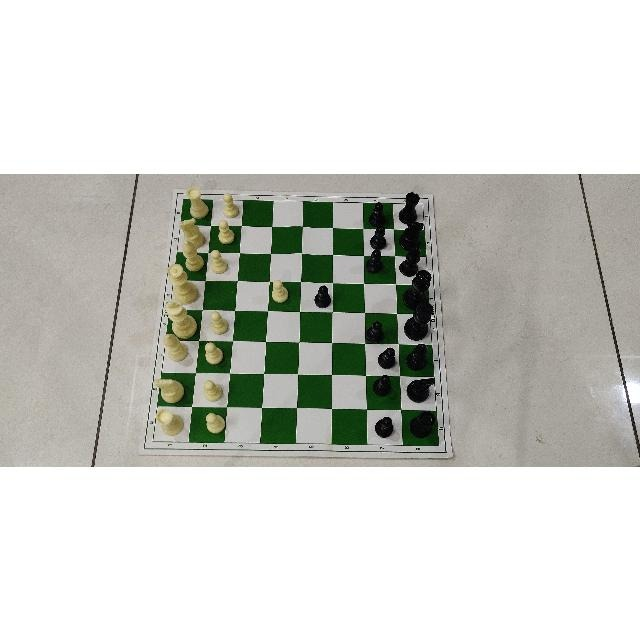black-bishop: (397, 245, 421, 276), (406, 342, 430, 370)
black-king: (403, 300, 433, 339)
black-knight: (406, 376, 435, 403), (401, 221, 424, 247)
black-pawn: (372, 373, 392, 397), (369, 201, 387, 227), (365, 248, 382, 274), (377, 345, 395, 368), (370, 224, 386, 249), (366, 320, 384, 342), (375, 416, 393, 438), (313, 284, 330, 307)
black-queen: (404, 269, 432, 307)
black-rook: (409, 409, 435, 437), (398, 191, 420, 221)
white-bishop: (163, 332, 188, 360), (182, 238, 204, 269)
white-king: (165, 298, 196, 337)
white-knight: (153, 377, 185, 404), (179, 216, 205, 245)
white-pawn: (203, 408, 227, 436), (203, 340, 229, 365), (201, 379, 226, 403), (209, 248, 229, 274), (218, 218, 236, 245), (271, 277, 289, 304), (222, 192, 240, 218), (210, 309, 228, 334)
white-queen: (167, 262, 199, 301)
white-rook: (155, 407, 184, 435), (186, 186, 210, 218)
